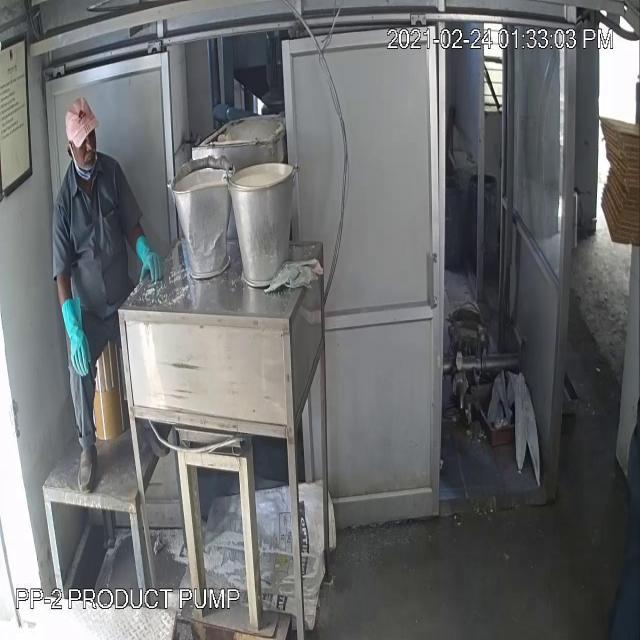no hat: (61, 85, 105, 154)
